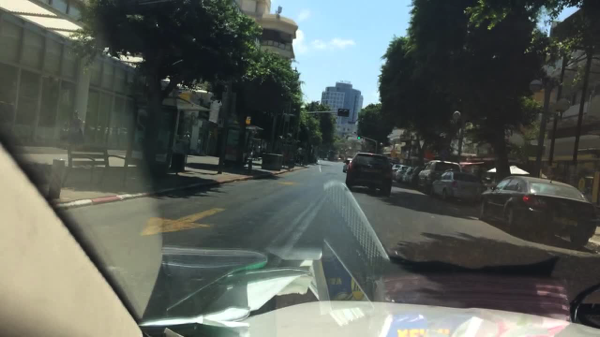bus: (326, 149, 339, 162)
car: (477, 175, 597, 248), (344, 153, 394, 196), (412, 159, 463, 195), (430, 171, 482, 205), (407, 165, 425, 189), (393, 164, 409, 182), (401, 165, 414, 186), (342, 158, 352, 173), (390, 164, 400, 178)
person: (67, 110, 85, 154), (575, 167, 589, 196), (254, 143, 262, 162), (183, 130, 193, 145), (297, 144, 305, 162)
traffic light: (337, 107, 351, 118), (355, 130, 360, 140)
traffic sign: (424, 150, 437, 163)
